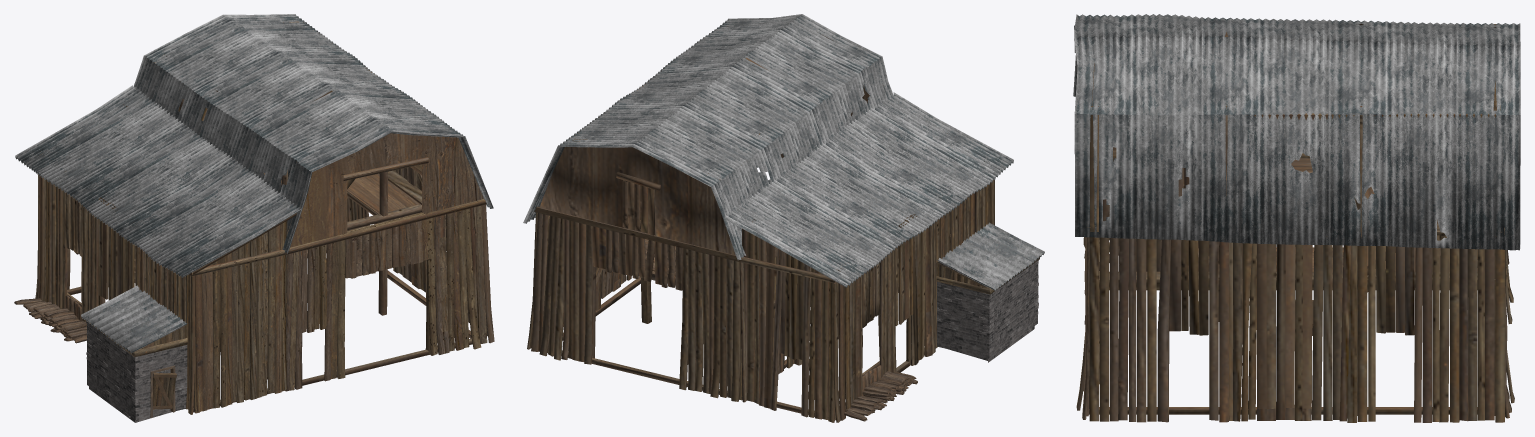
Rendered from barn.fbx.
3 renders of one model, left to right at view 1: azimuth 30°, elevation 25°; view 2: azimuth 150°, elevation 25°; view 3: azimuth 270°, elevation 25°, orthographic. The views are drawn at different scales.
Visible parts, largest first — view 1: SM_Barn_Roof01.mo, SM_Barn_Wall01.mo, SM_Barn_Exterior01.mo, SM_barn_extras_01.mo, SM_barn_structure_01.mo, SM_Barn_Planks01.mo; view 2: SM_Barn_Roof01.mo, SM_Barn_Exterior01.mo, SM_barn_extras_01.mo, SM_barn_structure_01.mo, SM_Barn_Planks01.mo; view 3: SM_Barn_Roof01.mo, SM_Barn_Exterior01.mo, SM_barn_structure_01.mo, SM_Barn_Wall01.mo.
Boxes of the visible parts, x1,y1,x2,y2 form: SM_Barn_Roof01.mo: (15, 14, 493, 277); SM_Barn_Wall01.mo: (192, 133, 494, 412); SM_Barn_Exterior01.mo: (35, 106, 488, 414); SM_barn_extras_01.mo: (81, 285, 187, 422); SM_barn_structure_01.mo: (43, 21, 481, 413); SM_Barn_Planks01.mo: (14, 298, 86, 343); SM_Barn_Roof01.mo: (523, 14, 1013, 287); SM_Barn_Exterior01.mo: (527, 147, 994, 422); SM_barn_extras_01.mo: (936, 222, 1044, 362); SM_barn_structure_01.mo: (547, 26, 990, 421); SM_Barn_Planks01.mo: (844, 371, 917, 421); SM_Barn_Roof01.mo: (1073, 14, 1520, 250); SM_Barn_Exterior01.mo: (1089, 147, 1514, 422); SM_barn_structure_01.mo: (1089, 23, 1500, 415); SM_Barn_Wall01.mo: (1076, 227, 1090, 419).
Size of the model in its own units: 2160 by 1387 by 1755.
